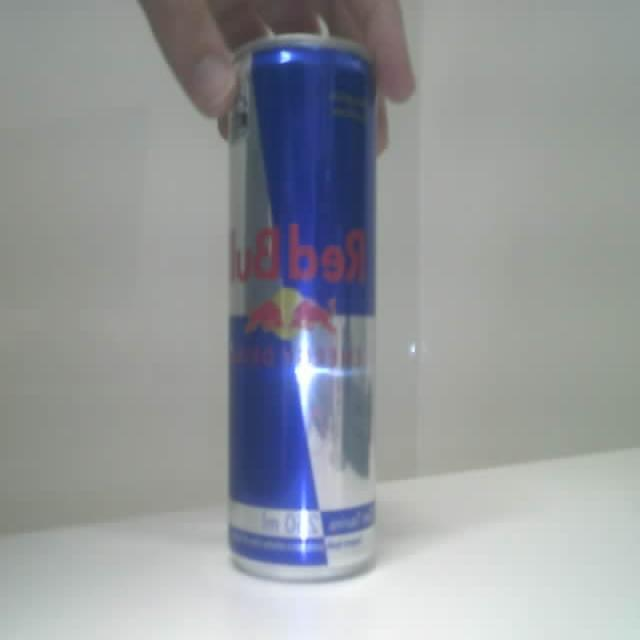redbull can: (228, 35, 375, 579)
